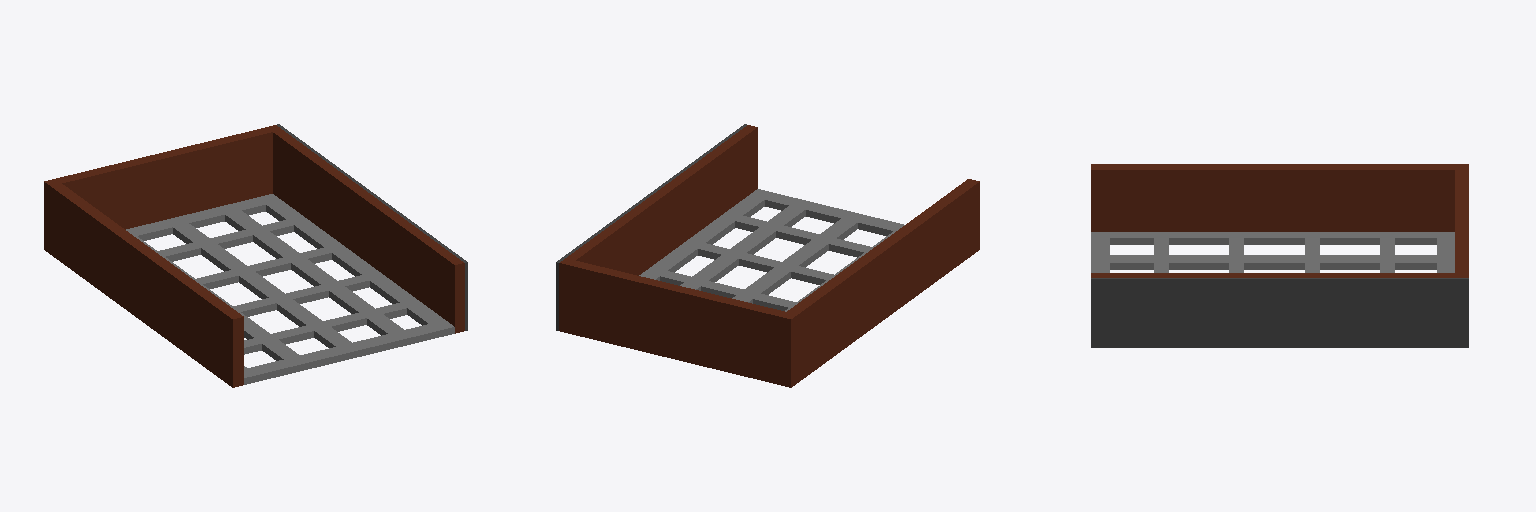
Rendered from small_window.obj.
The picture shows the model from 3 angles: view 1: azimuth 30°, elevation 25°; view 2: azimuth 150°, elevation 25°; view 3: azimuth 270°, elevation 25°; orthographic projection.
Parts seen in each view (by area): view 1: Extrusion:3, Extrusion, Extrusion:1, Extrusion:2, Generic - 200mm; view 2: Extrusion:2, Extrusion, Extrusion:3, Extrusion:1, Generic - 200mm; view 3: Generic - 200mm, Extrusion, Extrusion:3, Extrusion:1, Extrusion:2.
Part boxes in pixels (left/top/right/bottom): Extrusion:3: left=126, top=194, right=454, bottom=384; Extrusion: left=44, top=179, right=243, bottom=387; Extrusion:1: left=267, top=125, right=464, bottom=333; Extrusion:2: left=56, top=127, right=272, bottom=229; Generic - 200mm: left=277, top=124, right=467, bottom=330; Extrusion:2: left=569, top=261, right=785, bottom=384; Extrusion: left=780, top=179, right=979, bottom=387; Extrusion:3: left=639, top=189, right=904, bottom=311; Extrusion:1: left=559, top=125, right=757, bottom=333; Generic - 200mm: left=556, top=124, right=746, bottom=330; Generic - 200mm: left=1091, top=278, right=1468, bottom=347; Extrusion: left=1091, top=164, right=1468, bottom=231; Extrusion:3: left=1091, top=232, right=1454, bottom=272; Extrusion:1: left=1091, top=273, right=1468, bottom=277; Extrusion:2: left=1455, top=170, right=1468, bottom=272.
Bounding box in the file's own units: 0.72 × 0.2 × 1.